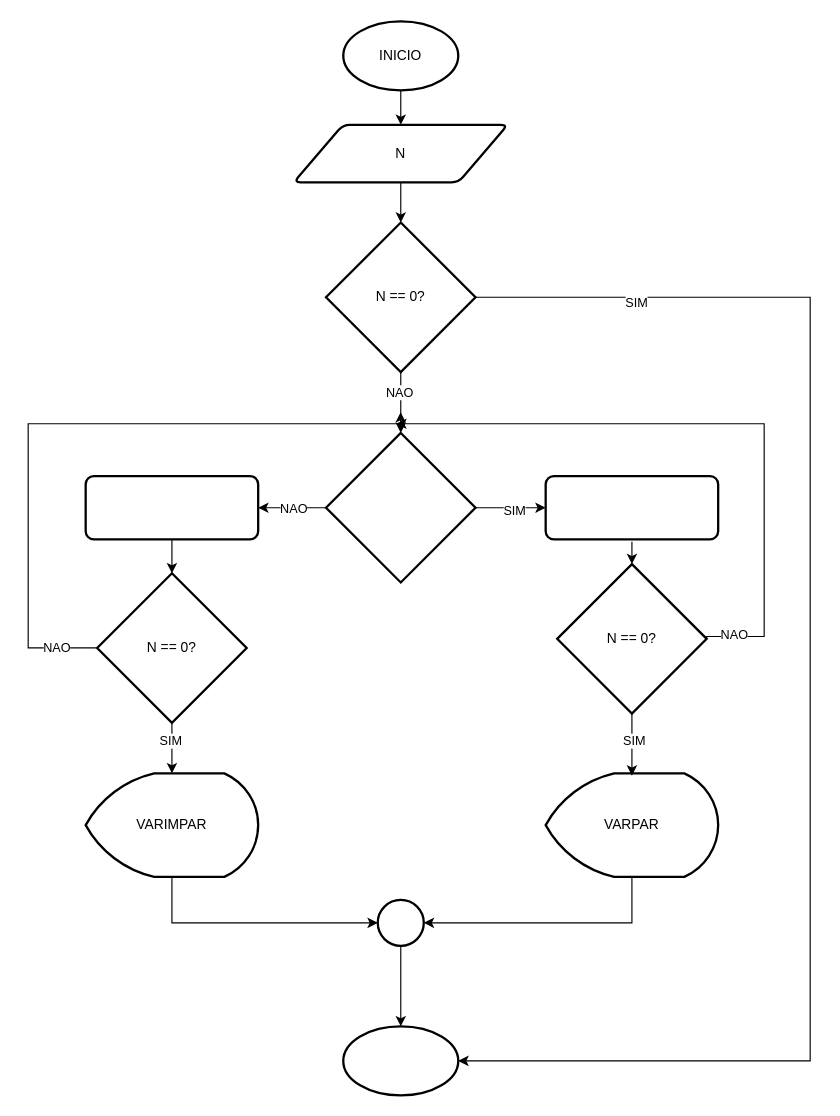
Some shapes in this 840 by 1116 pixel diagram are drawn without their labels. Here are the shapes that lost their labels. From the top down, the box of each, then its label:
(84, 474, 259, 540): VARIMPAR + 1
(324, 431, 476, 583): N % 2 == 0?
(544, 474, 719, 540): VARPAR + 1
(342, 1025, 459, 1096): FIM
